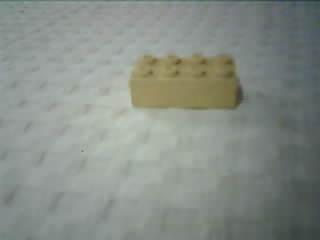lego: (126, 52, 242, 112)
